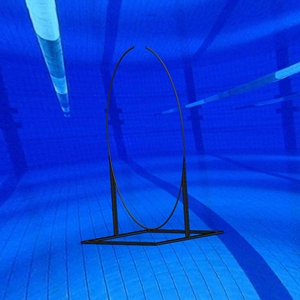circle: (80, 46, 226, 245)
